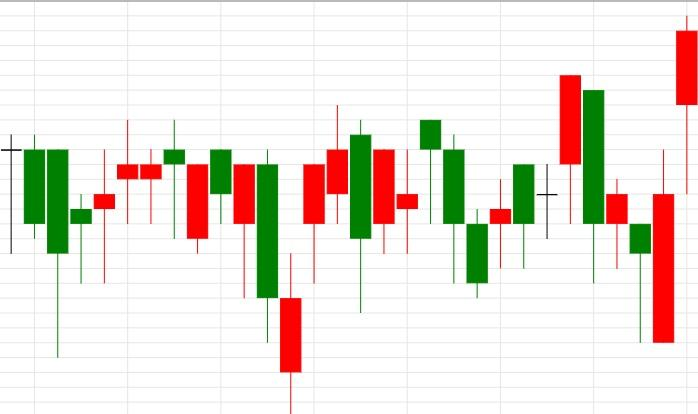bullish_engulfing_rise: (559, 74, 675, 343)
hammer_rise: (560, 74, 652, 342)
three_black_crows_fall: (349, 119, 489, 313)
